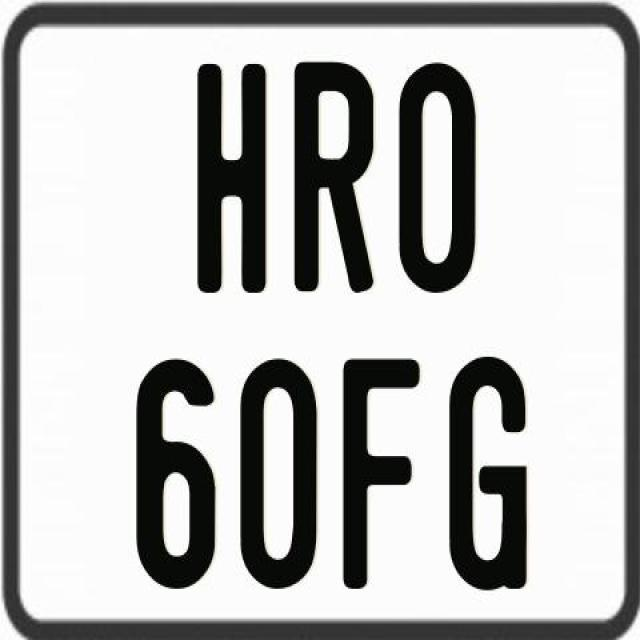0: (394, 61, 480, 293), (237, 353, 323, 584)
6: (132, 358, 214, 589)
F: (340, 357, 423, 592)
G: (448, 357, 528, 592)
H: (197, 62, 271, 292)
